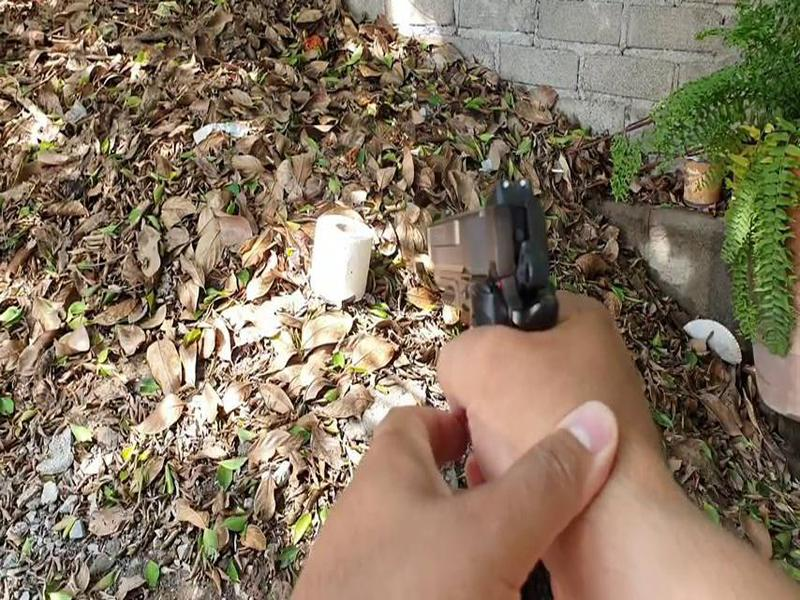Pistola: (393, 164, 568, 377)
